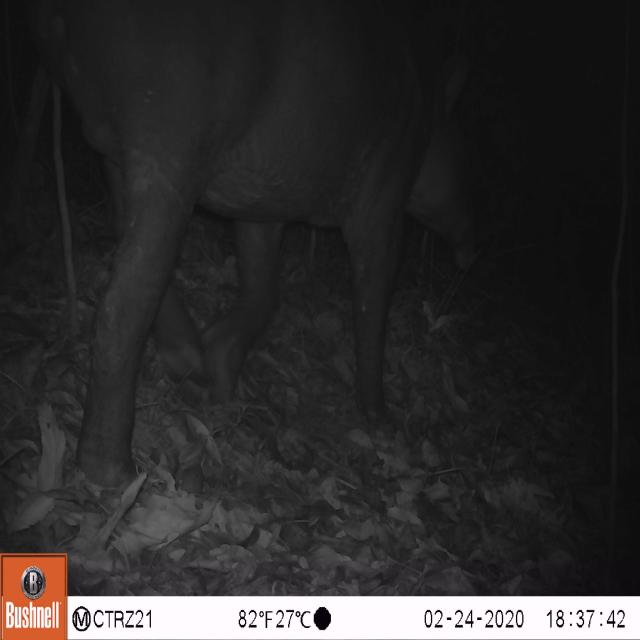Lowland Tapir: (30, 6, 509, 499)
